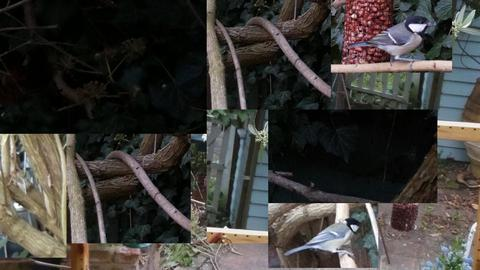great tit: (346, 15, 437, 70), (283, 218, 363, 258)
